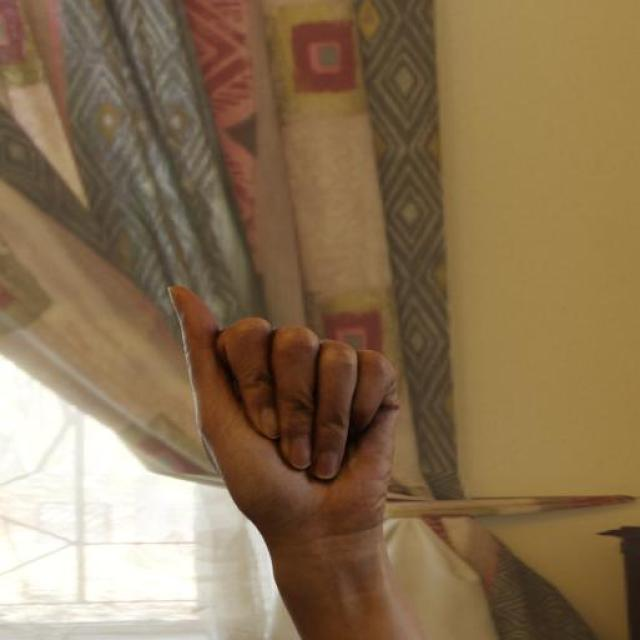A: (163, 280, 403, 560)
